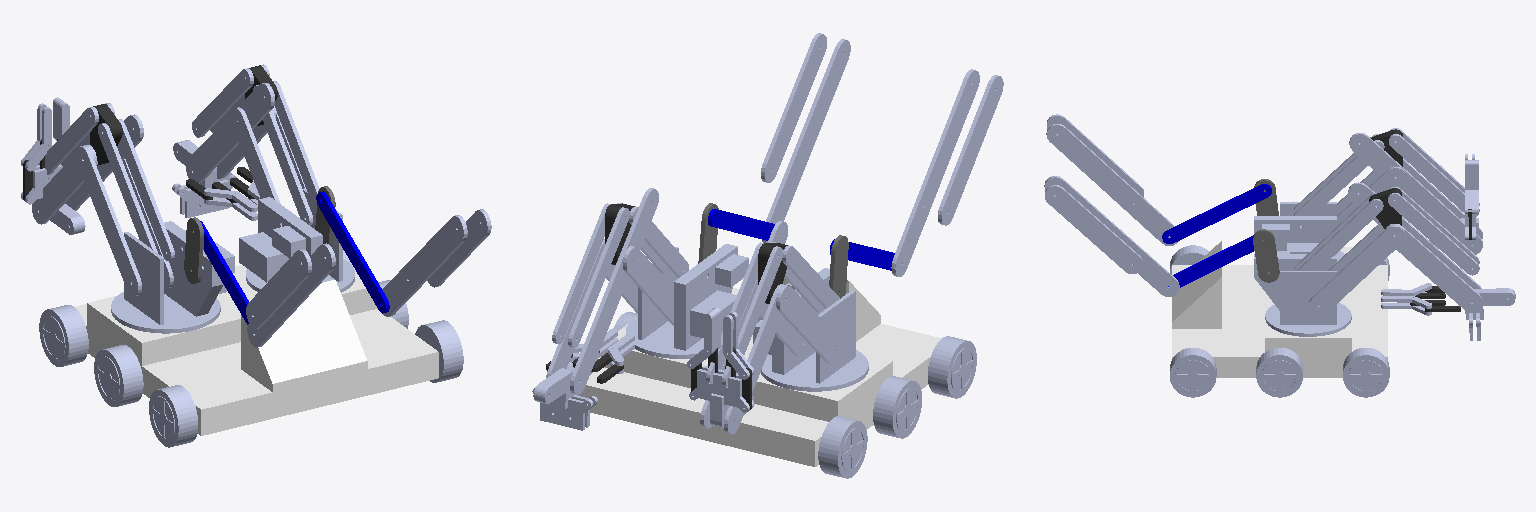
--- Render facts (derived) ---
The picture shows the robot from 3 angles, left to right: view 1: azimuth 30°, elevation 25°; view 2: azimuth 150°, elevation 25°; view 3: azimuth 270°, elevation 25°; orthographic projection.
Model little_boy with 47 links and 46 joints (28 continuous, 18 fixed), rooted at robot_body, posed all joints at 0.
Visible links, largest first — view 1: robot_body, shoulder_L, shoulder_R, ulna_R_ins1, ulna_L_ins1, humerus_support_L, ulna_R_ins2, humerus_L, humerus_support_R, ulna_L_in2, wheel_L1, wheel_L2 (+13 smaller); view 2: robot_body, shoulder_R, ulna_L_ins1, ulna_R_ins1, shoulder_L, ulna_R_ins2, ulna_support_R, humerus_L, ulna_support_L, ulna_L_in2, wheel_L3, wheel_L2 (+14 smaller); view 3: robot_body, shoulder_R, ulna_R_ins1, ulna_L_ins1, ulna_R_ins2, ulna_L_in2, humerus_R, shoulder_L, ulna_support_R, humerus_support_R, wheel_R2, wheel_R1 (+11 smaller).
Link boxes in pixels (box(x1,y1,x2,y2)): robot_body: box(75, 265, 438, 435); shoulder_L: box(111, 221, 234, 333); shoulder_R: box(239, 188, 354, 292); ulna_R_ins1: box(382, 209, 491, 316); ulna_L_ins1: box(246, 243, 335, 347); humerus_support_L: box(98, 119, 174, 260); ulna_R_ins2: box(186, 83, 275, 183); humerus_L: box(76, 146, 173, 296); humerus_support_R: box(253, 81, 319, 225); ulna_L_in2: box(32, 114, 143, 224); wheel_L1: box(39, 305, 88, 366); wheel_L2: box(94, 345, 143, 406); robot_body: box(579, 277, 941, 466); shoulder_R: box(626, 244, 748, 358); ulna_L_ins1: box(891, 69, 1003, 276); ulna_R_ins1: box(761, 33, 850, 242); shoulder_L: box(753, 268, 868, 391); ulna_R_ins2: box(546, 188, 658, 394); ulna_support_R: box(552, 203, 629, 347); humerus_L: box(760, 285, 841, 364); ulna_support_L: box(706, 242, 782, 387); ulna_L_in2: box(700, 221, 787, 434); wheel_L3: box(928, 336, 976, 398); wheel_L2: box(873, 376, 921, 438); robot_body: box(1172, 241, 1387, 377); shoulder_R: box(1254, 251, 1351, 336); ulna_R_ins1: box(1044, 176, 1179, 296); ulna_L_ins1: box(1046, 114, 1178, 245); ulna_R_ins2: box(1348, 182, 1482, 312); ulna_L_in2: box(1349, 133, 1482, 254); humerus_R: box(1309, 216, 1405, 315); shoulder_L: box(1254, 202, 1344, 261); ulna_support_R: box(1388, 187, 1479, 275); humerus_support_R: box(1294, 193, 1383, 270); wheel_R2: box(1256, 348, 1302, 397); wheel_R1: box(1343, 348, 1389, 397).
Bounding box of the posed robot: 0.362 × 0.6533 × 0.2957 m (x, y, z).
41 mesh visuals loaded from 47 distinct referenced files (41 binary STL); not drawn: 6 (reference not matched to a file when rendering).

The robot description file, URDF, robot "little_boy":
<?xml version="1.0" encoding="utf-8"?>
<!-- This URDF was automatically created by SolidWorks to URDF Exporter! Originally created by Stephen Brawner ([email redacted]) 
     Commit Version: 1.5.1-0-g916b5db  Build Version: 1.5.7152.31018
     For more information, please see http://wiki.ros.org/sw_urdf_exporter -->
<robot
  name="little_boy">
  <link
    name="robot_body">
    <inertial>
      <origin
        xyz="7.61031265785156E-18 0.0269020159399907 -6.56352555085698E-05"
        rpy="0 0 0" />
      <mass
        value="4.266" />
      <inertia
        ixx="0.0303319746647914"
        ixy="-1.25619509476993E-18"
        ixz="-5.25706915345657E-18"
        iyy="0.0584004816221285"
        iyz="-0.000455042564463211"
        izz="0.0311586930426629" />
    </inertial>
    <visual>
      <origin
        xyz="0 0 0"
        rpy="0 0 0" />
      <geometry>
        <mesh
          filename="package://little_boy/meshes/robot_body.STL" />
      </geometry>
      <material
        name="">
        <color
          rgba="1 1 1 1" />
      </material>
    </visual>
    <collision>
      <origin
        xyz="0 0 0"
        rpy="0 0 0" />
      <geometry>
        <mesh
          filename="package://little_boy/meshes/robot_body.STL" />
      </geometry>
    </collision>
  </link>
  <link
    name="shoulder_L">
    <inertial>
      <origin
        xyz="0.0176282080548916 0.0370896616143596 0.00815080609992025"
        rpy="0 0 0" />
      <mass
        value="0.283423667764616" />
      <inertia
        ixx="0.000265257278790206"
        ixy="3.50902367562715E-22"
        ixz="7.10003077447817E-09"
        iyy="0.000259412903702561"
        iyz="-1.91724092848441E-06"
        izz="0.000144352415869328" />
    </inertial>
    <visual>
      <origin
        xyz="0 0 0"
        rpy="0 0 0" />
      <geometry>
        <mesh
          filename="package://little_boy/meshes/shoulder_L.STL" />
      </geometry>
      <material
        name="">
        <color
          rgba="0.792156862745098 0.819607843137255 0.933333333333333 1" />
      </material>
    </visual>
    <collision>
      <origin
        xyz="0 0 0"
        rpy="0 0 0" />
      <geometry>
        <mesh
          filename="package://little_boy/meshes/shoulder_L.STL" />
      </geometry>
    </collision>
  </link>
  <joint
    name="shoulder_L_joint"
    type="continuous">
    <origin
      xyz="-0.085 0.04 0.06"
      rpy="1.5708 0 0" />
    <parent
      link="robot_body" />
    <child
      link="shoulder_L" />
    <axis
      xyz="0 1 0" />
  </joint>
  <link
    name="servo_shaft_L">
    <inertial>
      <origin
        xyz="0.025 1.04083408558608E-17 0.0025"
        rpy="0 0 0" />
      <mass
        value="0.0141430516117518" />
      <inertia
        ixx="1.01149544349088E-06"
        ixy="1.21760986167806E-21"
        ixz="3.02593885271888E-23"
        iyy="6.54527770083573E-06"
        iyz="4.35148745555937E-24"
        izz="7.49784376261098E-06" />
    </inertial>
    <visual>
      <origin
        xyz="0 0 0"
        rpy="0 0 0" />
      <geometry>
        <mesh
          filename="package://little_boy/meshes/servo_shaft_L.STL" />
      </geometry>
      <material
        name="">
        <color
          rgba="0.501960784313725 0.501960784313725 0.501960784313725 1" />
      </material>
    </visual>
    <collision>
      <origin
        xyz="0 0 0"
        rpy="0 0 0" />
      <geometry>
        <mesh
          filename="package://little_boy/meshes/servo_shaft_L.STL" />
      </geometry>
    </collision>
  </link>
  <joint
    name="ulna_servo_L"
    type="continuous">
    <origin
      xyz="0 0.07 0.055"
      rpy="1.5708 -0.11279 1.5708" />
    <parent
      link="shoulder_L" />
    <child
      link="servo_shaft_L" />
    <axis
      xyz="0 0 1" />
  </joint>
  <link
    name="triceps_L">
    <inertial>
      <origin
        xyz="0.00250000000000003 -5.55111512312578E-17 -0.0749999999999999"
        rpy="0 0 0" />
      <mass
        value="0.0163744467859455" />
      <inertia
        ixx="3.74341893949682E-05"
        ixy="5.07554232829905E-23"
        ixz="7.70773795544969E-24"
        iyy="3.692933971376E-05"
        iyz="-5.87629107157671E-21"
        izz="5.73076542816349E-07" />
    </inertial>
    <visual>
      <origin
        xyz="0 0 0"
        rpy="0 0 0" />
      <geometry>
        <mesh
          filename="package://little_boy/meshes/triceps_L.STL" />
      </geometry>
      <material
        name="">
        <color
          rgba="0 0 1 1" />
      </material>
    </visual>
    <collision>
      <origin
        xyz="0 0 0"
        rpy="0 0 0" />
      <geometry>
        <mesh
          filename="package://little_boy/meshes/triceps_L.STL" />
      </geometry>
    </collision>
  </link>
  <joint
    name="triceps_shaft_joint_L"
    type="continuous">
    <origin
      xyz="0.05 0 0.005"
      rpy="1.9502 -1.5708 0" />
    <parent
      link="servo_shaft_L" />
    <child
      link="triceps_L" />
    <axis
      xyz="1 0 0" />
  </joint>
  <link
    name="ulna_L_ins1">
    <inertial>
      <origin
        xyz="0.0545874765333507 0 0.014984129598169"
        rpy="0 0 0" />
      <mass
        value="0.0623918688838127" />
      <inertia
        ixx="4.68999147843949E-06"
        ixy="-2.17899225681169E-19"
        ixz="1.11324606142716E-21"
        iyy="0.000245475802534651"
        iyz="-3.24842515473838E-22"
        izz="0.000249905827892741" />
    </inertial>
    <visual>
      <origin
        xyz="0 0 0"
        rpy="0 0 0" />
      <geometry>
        <mesh
          filename="package://little_boy/meshes/ulna_L_ins1.STL" />
      </geometry>
      <material
        name="">
        <color
          rgba="0.792156862745098 0.819607843137255 0.933333333333333 1" />
      </material>
    </visual>
    <collision>
      <origin
        xyz="0 0 0"
        rpy="0 0 0" />
      <geometry>
        <mesh
          filename="package://little_boy/meshes/ulna_L_ins1.STL" />
      </geometry>
    </collision>
  </link>
  <joint
    name="ulna_triceps_joint_L"
    type="fixed">
    <origin
      xyz="0 -0.067012 -0.17023"
      rpy="1.5708 0.29323 -1.5708" />
    <parent
      link="triceps_L" />
    <child
      link="ulna_L_ins1" />
    <axis
      xyz="0 0 0" />
  </joint>
  <link
    name="humerus_L">
    <inertial>
      <origin
        xyz="-0.075 3.46944695195361E-17 0.0124999999999997"
        rpy="0 0 0" />
      <mass
        value="0.0519272118011655" />
      <inertia
        ixx="3.88070998990835E-06"
        ixy="8.19504376468536E-20"
        ixz="-8.02144397407362E-21"
        iyy="0.000130596276371464"
        iyz="-9.7780692694582E-24"
        izz="0.000134260622978868" />
    </inertial>
    <visual>
      <origin
        xyz="0 0 0"
        rpy="0 0 0" />
      <geometry>
        <mesh
          filename="package://little_boy/meshes/humerus_L.STL" />
      </geometry>
      <material
        name="">
        <color
          rgba="0.792156862745098 0.819607843137255 0.933333333333333 1" />
      </material>
    </visual>
    <collision>
      <origin
        xyz="0 0 0"
        rpy="0 0 0" />
      <geometry>
        <mesh
          filename="package://little_boy/meshes/humerus_L.STL" />
      </geometry>
    </collision>
  </link>
  <joint
    name="humerus_servo_L"
    type="continuous">
    <origin
      xyz="0 0.035 -0.015"
      rpy="1.5708 -0.7854 -1.5708" />
    <parent
      link="shoulder_L" />
    <child
      link="humerus_L" />
    <axis
      xyz="0 0 1" />
  </joint>
  <link
    name="ulna_L_in2">
    <inertial>
      <origin
        xyz="0.0545874765333507 -5.55111512312578E-17 0.0099841295981687"
        rpy="0 0 0" />
      <mass
        value="0.0623918688838127" />
      <inertia
        ixx="4.68999147843951E-06"
        ixy="-2.40980873493848E-19"
        ixz="1.11329823859271E-21"
        iyy="0.000245475802534651"
        iyz="-3.24864237572959E-22"
        izz="0.000249905827892741" />
    </inertial>
    <visual>
      <origin
        xyz="0 0 0"
        rpy="0 0 0" />
      <geometry>
        <mesh
          filename="package://little_boy/meshes/ulna_L_in2.STL" />
      </geometry>
      <material
        name="">
        <color
          rgba="0.792156862745098 0.819607843137255 0.933333333333333 1" />
      </material>
    </visual>
    <collision>
      <origin
        xyz="0 0 0"
        rpy="0 0 0" />
      <geometry>
        <mesh
          filename="package://little_boy/meshes/ulna_L_in2.STL" />
      </geometry>
    </collision>
  </link>
  <joint
    name="ulna_humerus_joint_L"
    type="continuous">
    <origin
      xyz="-0.15 0 0"
      rpy="0 0 -1.5708" />
    <parent
      link="humerus_L" />
    <child
      link="ulna_L_in2" />
    <axis
      xyz="0 0 1" />
  </joint>
  <link
    name="wrist_L_ins1">
    <inertial>
      <origin
        xyz="0.00750000000000002 0.0120255662044686 0.0177078963677059"
        rpy="0 0 0" />
      <mass
        value="0.045714101606315" />
      <inertia
        ixx="1.44625861769414E-05"
        ixy="2.13841400464998E-22"
        ixz="1.82737513348935E-20"
        iyy="1.14249586142426E-05"
        iyz="1.96430007002868E-06"
        izz="1.69837601342722E-05" />
    </inertial>
    <visual>
      <origin
        xyz="0 0 0"
        rpy="0 0 0" />
      <geometry>
        <mesh
          filename="package://little_boy/meshes/wrist_L_ins1.STL" />
      </geometry>
      <material
        name="">
        <color
          rgba="0.792156862745098 0.819607843137255 0.933333333333333 1" />
      </material>
    </visual>
    <collision>
      <origin
        xyz="0 0 0"
        rpy="0 0 0" />
      <geometry>
        <mesh
          filename="package://little_boy/meshes/wrist_L_ins1.STL" />
      </geometry>
    </collision>
  </link>
  <joint
    name="wrist_ulna_joint_L"
    type="fixed">
    <origin
      xyz="0.15 0 0.005"
      rpy="0.7806 -1.5708 0" />
    <parent
      link="ulna_L_in2" />
    <child
      link="wrist_L_ins1" />
    <axis
      xyz="0 0 0" />
  </joint>
  <link
    name="finger_support_outer_L">
    <inertial>
      <origin
        xyz="5.55111512312578E-17 -0.0025 -0.0199999999999999"
        rpy="0 0 0" />
      <mass
        value="0.00236128315516283" />
      <inertia
        ixx="4.51879117250703E-07"
        ixy="-1.40436489335427E-24"
        ixz="7.65132373088747E-22"
        iyy="4.66072959289763E-07"
        iyz="-9.76758131757343E-22"
        izz="2.4032521852239E-08" />
    </inertial>
    <visual>
      <origin
        xyz="0 0 0"
        rpy="0 0 0" />
      <geometry>
        <mesh
          filename="package://little_boy/meshes/finger_support_outer_L.STL" />
      </geometry>
      <material
        name="">
        <color
          rgba="0.250980392156863 0.250980392156863 0.250980392156863 1" />
      </material>
    </visual>
    <collision>
      <origin
        xyz="0 0 0"
        rpy="0 0 0" />
      <geometry>
        <mesh
          filename="package://little_boy/meshes/finger_support_outer_L.STL" />
      </geometry>
    </collision>
  </link>
  <joint
    name="support_wrist_outer_joint_L"
    type="continuous">
    <origin
      xyz="0.039713 0 0.020587"
      rpy="3.1416 1.0036E-05 0" />
    <parent
      link="wrist_L_ins1" />
    <child
      link="finger_support_outer_L" />
    <axis
      xyz="0 1 0" />
  </joint>
  <link
    name="finger_outer_L_ins1">
    <inertial>
      <origin
        xyz="0.00511306770476384 0.00749999999999998 -0.00728422296123404"
        rpy="0 0 0" />
      <mass
        value="0.00771718769015706" />
      <inertia
        ixx="3.08987109886469E-06"
        ixy="-2.02659250075492E-21"
        ixz="-9.12550467897181E-07"
        iyy="3.56022426581631E-06"
        iyz="-6.70264450351718E-21"
        izz="5.02508115660616E-07" />
    </inertial>
    <visual>
      <origin
        xyz="0 0 0"
        rpy="0 0 0" />
      <geometry>
        <mesh
          filename="package://little_boy/meshes/finger_outer_L_ins1.STL" />
      </geometry>
      <material
        name="">
        <color
          rgba="0.792156862745098 0.819607843137255 0.933333333333333 1" />
      </material>
    </visual>
    <collision>
      <origin
        xyz="0 0 0"
        rpy="0 0 0" />
      <geometry>
        <mesh
          filename="package://little_boy/meshes/finger_outer_L_ins1.STL" />
      </geometry>
    </collision>
  </link>
  <joint
    name="finger_support_outer_joint_L"
    type="fixed">
    <origin
      xyz="-0.021213 -0.01 -0.061213"
      rpy="0 1.0036E-05 0" />
    <parent
      link="finger_support_outer_L" />
    <child
      link="finger_outer_L_ins1" />
    <axis
      xyz="0 0 0" />
  </joint>
  <link
    name="finger_actuator_outer_L">
    <inertial>
      <origin
        xyz="3.33066907387547E-16 -0.00250000000000003 -0.0199999999999997"
        rpy="0 0 0" />
      <mass
        value="0.00236128315516283" />
      <inertia
        ixx="4.51879117250703E-07"
        ixy="-1.24176015040469E-24"
        ixz="9.30649123494754E-22"
        iyy="4.66072959289763E-07"
        iyz="-9.74877588333492E-22"
        izz="2.4032521852239E-08" />
    </inertial>
    <visual>
      <origin
        xyz="0 0 0"
        rpy="0 0 0" />
      <geometry>
        <mesh
          filename="package://little_boy/meshes/finger_actuator_outer_L.STL" />
      </geometry>
      <material
        name="">
        <color
          rgba="0.250980392156863 0.250980392156863 0.250980392156863 1" />
      </material>
    </visual>
    <collision>
      <origin
        xyz="0 0 0"
        rpy="0 0 0" />
      <geometry>
        <mesh
          filename="package://little_boy/meshes/finger_actuator_outer_L.STL" />
      </geometry>
    </collision>
  </link>
  <joint
    name="finger_actuator_outer_servo_L"
    type="continuous">
    <origin
      xyz="0.0185 0 0.0418"
      rpy="3.1416 1.0036E-05 0" />
    <parent
      link="wrist_L_ins1" />
    <child
      link="finger_actuator_outer_L" />
    <axis
      xyz="0 1 0" />
  </joint>
  <link
    name="finger_outer_L_ins2">
    <inertial>
      <origin
        xyz="0.00511306770476233 0.00749999999999998 -0.00728422296123388"
        rpy="0 0 0" />
      <mass
        value="0.00771718769015706" />
      <inertia
        ixx="3.08987109886468E-06"
        ixy="-2.03817302933066E-21"
        ixz="-9.1255046789718E-07"
        iyy="3.56022426581631E-06"
        iyz="-6.73304339102851E-21"
        izz="5.02508115660616E-07" />
    </inertial>
    <visual>
      <origin
        xyz="0 0 0"
        rpy="0 0 0" />
      <geometry>
        <mesh
          filename="package://little_boy/meshes/finger_outer_L_ins2.STL" />
      </geometry>
      <material
        name="">
        <color
          rgba="0.792156862745098 0.819607843137255 0.933333333333333 1" />
      </material>
    </visual>
    <collision>
      <origin
        xyz="0 0 0"
        rpy="0 0 0" />
      <geometry>
        <mesh
          filename="package://little_boy/meshes/finger_outer_L_ins2.STL" />
      </geometry>
    </collision>
  </link>
  <joint
    name="finger_servo_outer_joint_L"
    type="fixed">
    <origin
      xyz="0 -0.01 -0.04"
      rpy="0 1.0036E-05 0" />
    <parent
      link="finger_actuator_outer_L" />
    <child
      link="finger_outer_L_ins2" />
    <axis
      xyz="0 0 0" />
  </joint>
  <link
    name="finger_actuator_inner_L">
    <inertial>
      <origin
        xyz="3.7470027081099E-16 0.00250000000000002 -0.0199999999999999"
        rpy="0 0 0" />
      <mass
        value="0.00236128315516283" />
      <inertia
        ixx="4.51879117250704E-07"
        ixy="-1.18581990730924E-25"
        ixz="-7.81465991394108E-24"
        iyy="4.66072959289764E-07"
        iyz="9.84215681967392E-22"
        izz="2.4032521852239E-08" />
    </inertial>
    <visual>
      <origin
        xyz="0 0 0"
        rpy="0 0 0" />
      <geometry>
        <mesh
          filename="package://little_boy/meshes/finger_actuator_inner_L.STL" />
      </geometry>
      <material
        name="">
        <color
          rgba="0.250980392156863 0.250980392156863 0.250980392156863 1" />
      </material>
    </visual>
    <collision>
      <origin
        xyz="0 0 0"
        rpy="0 0 0" />
      <geometry>
        <mesh
          filename="package://little_boy/meshes/finger_actuator_inner_L.STL" />
      </geometry>
    </collision>
  </link>
  <joint
    name="finger_actuator_inner_servo_L"
    type="continuous">
    <origin
      xyz="-0.0035 0 0.0418"
      rpy="3.1416 0 3.1416" />
    <parent
      link="wrist_L_ins1" />
    <child
      link="finger_actuator_inner_L" />
    <axis
      xyz="0 1 0" />
  </joint>
  <link
    name="finger_inner_L_ins1">
    <inertial>
      <origin
        xyz="0.00511306770476561 0.00750000000000003 -0.00728422296123432"
        rpy="0 0 0" />
      <mass
        value="0.00771718769015707" />
      <inertia
        ixx="3.08987109886468E-06"
        ixy="2.0216294170796E-21"
        ixz="-9.12550467897193E-07"
        iyy="3.56022426581631E-06"
        iyz="6.8124527298336E-21"
        izz="5.02508115660625E-07" />
    </inertial>
    <visual>
      <origin
        xyz="0 0 0"
        rpy="0 0 0" />
      <geometry>
        <mesh
          filename="package://little_boy/meshes/finger_inner_L_ins1.STL" />
      </geometry>
      <material
        name="">
        <color
          rgba="0.792156862745098 0.819607843137255 0.933333333333333 1" />
      </material>
    </visual>
    <collision>
      <origin
        xyz="0 0 0"
        rpy="0 0 0" />
      <geometry>
        <mesh
          filename="package://little_boy/meshes/finger_inner_L_ins1.STL" />
      </geometry>
    </collision>
  </link>
  <joint
    name="finger_servo_inner_joint_L"
    type="fixed">
    <origin
      xyz="0 -0.005 -0.04"
      rpy="0 0 0" />
    <parent
      link="finger_actuator_inner_L" />
    <child
      link="finger_inner_L_ins1" />
    <axis
      xyz="0 0 0" />
  </joint>
  <link
    name="finger_support_inner_L">
    <inertial>
      <origin
        xyz="-1.68337566108789E-13 0.00249999999999984 -0.0199999999999622"
        rpy="0 0 0" />
      <mass
        value="0.00236128315516283" />
      <inertia
        ixx="4.51879117250704E-07"
        ixy="-9.74916321070811E-26"
        ixz="-1.22111604485446E-23"
        iyy="4.66072959289764E-07"
        iyz="9.84467713560279E-22"
        izz="2.4032521852239E-08" />
    </inertial>
    <visual>
      <origin
        xyz="0 0 0"
        rpy="0 0 0" />
      <geometry>
        <mesh
          filename="package://little_boy/meshes/finger_support_inner_L.STL" />
      </geometry>
      <material
        name="">
        <color
          rgba="0.250980392156863 0.250980392156863 0.250980392156863 1" />
      </material>
    </visual>
    <collision>
      <origin
        xyz="0 0 0"
        rpy="0 0 0" />
      <geometry>
        <mesh
          filename="package://little_boy/meshes/finger_support_inner_L.STL" />
      </geometry>
    </collision>
  </link>
  <joint
    name="support_wrist_inner_joint_L"
    type="continuous">
    <origin
      xyz="-0.0247132034355964 0 0.0205867965644033"
      rpy="3.14159265358979 0 3.14159265358979" />
    <parent
      link="wrist_L_ins1" />
    <child
      link="finger_support_inner_L" />
    <axis
      xyz="0 1 0" />
  </joint>
  <link
    name="finger_inner_L">
    <inertial>
      <origin
        xyz="0.00511306770463403 0.00749999999999987 -0.00728422296123454"
        rpy="0 0 0" />
      <mass
        value="0.00771718769015706" />
      <inertia
        ixx="3.08987109886467E-06"
        ixy="2.05223509974406E-21"
        ixz="-9.12550467897202E-07"
        iyy="3.56022426581631E-06"
        iyz="6.81265952498674E-21"
        izz="5.02508115660632E-07" />
    </inertial>
    <visual>
      <origin
        xyz="0 0 0"
        rpy="0 0 0" />
      <geometry>
        <mesh
          filename="package://little_boy/meshes/finger_inner_L.STL" />
      </geometry>
      <material
        name="">
        <color
          rgba="0.792156862745098 0.819607843137255 0.933333333333333 1" />
      </material>
    </visual>
    <collision>
      <origin
        xyz="0 0 0"
        rpy="0 0 0" />
      <geometry>
        <mesh
          filename="package://little_boy/meshes/finger_inner_L.STL" />
      </geometry>
    </collision>
  </link>
  <joint
    name="finger_support_inner_joint_L_ins2"
    type="fixed">
    <origin
      xyz="-0.0212132034355953 -0.00499999999999985 -0.0612132034355966"
      rpy="0 0 0" />
    <parent
      link="finger_support_inner_L" />
    <child
      link="finger_inner_L" />
    <axis
      xyz="0 0 0" />
  </joint>
  <link
    name="elbow_L_ins1">
    <inertial>
      <origin
        xyz="0.152162677124301 0.230059087454614 -0.0974999999999999"
        rpy="0 0 0" />
      <mass
        value="0.0427619510241515" />
      <inertia
        ixx="1.36758061050991E-05"
        ixy="1.99613319993036E-06"
        ixz="-6.44024318031822E-22"
        iyy="6.30957779977599E-06"
        iyz="-4.53939815737194E-23"
        izz="1.83818107414694E-05" />
    </inertial>
    <visual>
      <origin
        xyz="0 0 0"
        rpy="0 0 0" />
      <geometry>
        <mesh
          filename="package://little_boy/meshes/elbow_L_ins1.STL" />
      </geometry>
      <material
        name="">
        <color
          rgba="0.250980392156863 0.250980392156863 0.250980392156863 1" />
      </material>
    </visual>
    <collision>
      <origin
        xyz="0 0 0"
        rpy="0 0 0" />
      <geometry>
        <mesh
          filename="package://little_boy/meshes/elbow_L_ins1.STL" />
      </geometry>
    </collision>
  </link>
  <joint
    name="elbow_humerus_joint_L"
    type="fixed">
    <origin
      xyz="0.106066017177982 -0.0282842712474625 -0.085"
      rpy="3.14159265358979 0 -2.35139744838984" />
    <parent
      link="humerus_L" />
    <child
      link="elbow_L_ins1" />
    <axis
      xyz="0 0 0" />
  </joint>
  <link
    name="ulna_support_L">
    <inertial>
      <origin
        xyz="-0.0750000000000707 2.80331313717852E-14 0.0124999999999988"
        rpy="0 0 0" />
      <mass
        value="0.0330002209841783" />
      <inertia
        ixx="1.14721075515941E-06"
        ixy="8.173867941004E-20"
        ixz="-1.64349907938118E-21"
        iyy="7.52734537911621E-05"
        iyz="-7.10267285501199E-23"
        izz="7.62831636255541E-05" />
    </inertial>
    <visual>
      <origin
        xyz="0 0 0"
        rpy="0 0 0" />
      <geometry>
        <mesh
          filename="package://little_boy/meshes/ulna_support_L.STL" />
      </geometry>
      <material
        name="">
        <color
          rgba="0.792156862745098 0.819607843137255 0.933333333333333 1" />
      </material>
    </visual>
    <collision>
      <origin
        xyz="0 0 0"
        rpy="0 0 0" />
      <geometry>
        <mesh
          filename="package://little_boy/meshes/ulna_support_L.STL" />
      </geometry>
    </collision>
  </link>
  <joint
    name="ulna_sup_elbow_joint_L"
    type="continuous">
    <origin
      xyz="0.160099645597075 0.251836341210115 -0.0849999999999999"
      rpy="3.14159265358979 0 2.36099153199484" />
    <parent
      link="elbow_L_ins1" />
    <child
      link="ulna_support_L" />
    <axis
      xyz="0 0 1" />
  </joint>
  <link
    name="wrist_L_ins2">
    <inertial>
      <origin
        xyz="0.0074999999999897 0.0120255662043827 0.0177078963676536"
        rpy="0 0 0" />
      <mass
        value="0.045714101606315" />
      <inertia
        ixx="1.44625861769414E-05"
        ixy="1.96557219476226E-22"
        ixz="1.80532018603015E-20"
        iyy="1.14249586142426E-05"
        iyz="1.96430007002868E-06"
        izz="1.69837601342722E-05" />
    </inertial>
    <visual>
      <origin
        xyz="0 0 0"
        rpy="0 0 0" />
      <geometry>
        <mesh
          filename="package://little_boy/meshes/wrist_L_ins2.STL" />
      </geometry>
      <material
        name="">
        <color
          rgba="0.792156862745098 0.819607843137255 0.933333333333333 1" />
      </material>
    </visual>
    <collision>
      <origin
        xyz="0 0 0"
        rpy="0 0 0" />
      <geometry>
        <mesh
          filename="package://little_boy/meshes/wrist_L_ins2.STL" />
      </geometry>
    </collision>
  </link>
  <joint
    name="wrist_support_joint_L"
    type="fixed">
    <origin
      xyz="-0.185185331879527 -0.0355245326574139 0.00500000000000012"
      rpy="2.36099153199484 -1.5707963267949 0" />
    <parent
      link="ulna_support_L" />
    <child
      link="wrist_L_ins2" />
    <axis
      xyz="0 0 0" />
  </joint>
  <link
    name="humerus_support_L">
    <inertial>
      <origin
        xyz="-0.0749999999999872 -1.04652397858729E-13 0.0124999999999868"
        rpy="0 0 0" />
      <mass
        value="0.0330002209841783" />
      <inertia
        ixx="1.14721075515939E-06"
        ixy="-1.161019590472E-16"
        ixz="-1.63201420245891E-17"
        iyy="7.52734537911621E-05"
        iyz="-2.21540650299699E-19"
        izz="7.62831636255541E-05" />
    </inertial>
    <visual>
      <origin
        xyz="0 0 0"
        rpy="0 0 0" />
      <geometry>
        <mesh
          filename="package://little_boy/meshes/humerus_support_L.STL" />
      </geometry>
      <material
        name="">
        <color
          rgba="0.792156862745098 0.819607843137255 0.933333333333333 1" />
      </material>
    </visual>
    <collision>
      <origin
        xyz="0 0 0"
        rpy="0 0 0" />
      <geometry>
        <mesh
          filename="package://little_boy/meshes/humerus_support_L.STL" />
      </geometry>
    </collision>
  </link>
  <joint
    name="humerus_support_joint_L"
    type="continuous">
    <origin
      xyz="0 0.075 0.00999999999997808"
      rpy="1.5707963267949 -0.779717685636845 -1.5707963267949" />
    <parent
      link="shoulder_L" />
    <child
      link="humerus_support_L" />
    <axis
      xyz="0 0 1" />
  </joint>
  <link
    name="elbow_L_ins2">
    <inertial>
      <origin
        xyz="-0.00793696847271147 0.028222746244398 0.00749999999998187"
        rpy="0 0 0" />
      <mass
        value="0.0427619510241515" />
      <inertia
        ixx="1.36758061050991E-05"
        ixy="1.99613319993036E-06"
        ixz="-1.44508705555333E-22"
        iyy="6.30957779977599E-06"
        iyz="-1.42028475409537E-22"
        izz="1.83818107414694E-05" />
    </inertial>
    <visual>
      <origin
        xyz="0 0 0"
        rpy="0 0 0" />
      <geometry>
        <mesh
          filename="package://little_boy/meshes/elbow_L_ins2.STL" />
      </geometry>
      <material
        name="">
        <color
          rgba="0.250980392156863 0.250980392156863 0.250980392156863 1" />
      </material>
    </visual>
    <collision>
      <origin
        xyz="0 0 0"
        rpy="0 0 0" />
      <geometry>
        <mesh
          filename="package://little_boy/meshes/elbow_L_ins2.STL" />
      </geometry>
    </collision>
  </link>
  <joint
    name="elbow_hum_sup_joint_L"
    type="fixed">
    <origin
      xyz="-0.139130064948853 -0.0467530160736474 0.0200000000000002"
      rpy="3.14159265358979 0 -2.34571697062923" />
    <parent
      link="humerus_support_L" />
    <child
      link="elbow_L_ins2" />
    <axis
      xyz="0 0 0" />
  </joint>
  <link
    name="shoulder_R">
    <inertial>
      <origin
        xyz="-0.0176282080548988 0.0370896616143597 0.00815080609990503"
        rpy="0 0 0" />
      <mass
        value="0.283423667764616" />
      <inertia
        ixx="0.000265257278790206"
        ixy="-1.267476044249E-21"
        ixz="-7.10003077447473E-09"
        iyy="0.000259412903702561"
        iyz="-1.91724092848443E-06"
        izz="0.000144352415869328" />
    </inertial>
    <visual>
      <origin
        xyz="0 0 0"
        rpy="0 0 0" />
      <geometry>
        <mesh
          filename="package://little_boy/meshes/shoulder_R.STL" />
      </geometry>
      <material
        name="">
        <color
          rgba="0.792156862745098 0.819607843137255 0.933333333333333 1" />
      </material>
    </visual>
    <collision>
      <origin
        xyz="0 0 0"
        rpy="0 0 0" />
      <geometry>
        <mesh
          filename="package://little_boy/meshes/shoulder_R.STL" />
      </geometry>
    </collision>
  </link>
  <joint
    name="shoulder_R_joint"
    type="continuous">
    <origin
      xyz="0.085 0.04 0.06"
      rpy="1.5708 0 0" />
    <parent
      link="robot_body" />
    <child
      link="shoulder_R" />
    <axis
      xyz="0 1 0" />
  </joint>
  <link
    name="servo_shaft_R">
    <inertial>
      <origin
        xyz="0.0250000000000018 -2.18575157973078E-14 -0.00250000000003446"
        rpy="0 0 0" />
      <mass
        value="0.0141430516117517" />
      <inertia
        ixx="1.01149544349088E-06"
        ixy="7.80071022306908E-18"
        ixz="6.14686865733588E-19"
        iyy="6.54527770083571E-06"
        iyz="6.33456407456332E-19"
        izz="7.49784376261096E-06" />
    </inertial>
    <visual>
      <origin
        xyz="0 0 0"
        rpy="0 0 0" />
      <geometry>
        <mesh
          filename="package://little_boy/meshes/servo_shaft_R.STL" />
      </geometry>
      <material
        name="">
        <color
          rgba="0.501960784313725 0.501960784313725 0.501960784313725 1" />
      </material>
    </visual>
    <collision>
      <origin
        xyz="0 0 0"
        rpy="0 0 0" />
      <geometry>
        <mesh
          filename="package://little_boy/meshes/servo_shaft_R.STL" />
      </geometry>
    </collision>
  </link>
  <joint
    name="ulna_servo_R"
    type="continuous">
    <origin
      xyz="0 0.0700000000000001 0.0549999999999848"
      rpy="1.57079632679475 -0.141084265240084 1.57079632679492" />
    <parent
      link="shoulder_R" />
    <child
      link="servo_shaft_R" />
    <axis
      xyz="0 0 1" />
  </joint>
  <link
    name="triceps_R">
    <inertial>
      <origin
        xyz="-0.00250000000008484 -2.73947531326257E-14 -0.07500000000006"
        rpy="0 0 0" />
      <mass
        value="0.0163744467859455" />
      <inertia
        ixx="3.74341893949682E-05"
        ixy="3.53802133580793E-22"
        ixz="3.58748204167413E-20"
        iyy="3.692933971376E-05"
        iyz="7.09390093325477E-21"
        izz="5.73076542816348E-07" />
    </inertial>
    <visual>
      <origin
        xyz="0 0 0"
        rpy="0 0 0" />
      <geometry>
        <mesh
          filename="package://little_boy/meshes/triceps_R.STL" />
      </geometry>
      <material
        name="">
        <color
          rgba="0 0 1 1" />
      </material>
    </visual>
    <collision>
      <origin
        xyz="0 0 0"
        rpy="0 0 0" />
      <geometry>
        <mesh
          filename="package://little_boy/meshes/triceps_R.STL" />
      </geometry>
    </collision>
  </link>
  <joint
    name="triceps_shaft_joint_R"
    type="continuous">
    <origin
      xyz="0.0500000000000016 0 -0.00499999999991747"
      rpy="1.9282665829622 -1.5707963267949 0" />
    <parent
      link="servo_shaft_R" />
    <child
      link="triceps_R" />
    <axis
      xyz="1 0 0" />
  </joint>
  <link
    name="ulna_R_ins1">
    <inertial>
      <origin
        xyz="0.0545874765331937 -2.08721928629529E-14 0.0149841295982093"
        rpy="0 0 0" />
      <mass
        value="0.0623918688838127" />
      <inertia
        ixx="4.68999147843955E-06"
        ixy="-2.13875819181711E-20"
        ixz="-1.44181539226308E-16"
        iyy="0.000245475802534651"
        iyz="-2.54155024407015E-18"
        izz="0.000249905827892741" />
    </inertial>
    <visual>
      <origin
        xyz="0 0 0"
        rpy="0 0 0" />
      <geometry>
        <mesh
          filename="package://little_boy/meshes/ulna_R_ins1.STL" />
      </geometry>
      <material
        name="">
        <color
          rgba="0.792156862745098 0.819607843137255 0.933333333333333 1" />
      </material>
    </visual>
    <collision>
      <origin
        xyz="0 0 0"
        rpy="0 0 0" />
      <geometry>
        <mesh
          filename="package://little_boy/meshes/ulna_R_ins1.STL" />
      </geometry>
    </collision>
  </link>
  <joint
    name="ulna_triceps_joint_R"
    type="fixed">
    <origin
      xyz="0 -0.0668990936204693 -0.170603671341298"
      rpy="-1.5707963267949 0.298762929258244 -1.5707963267949" />
    <parent
      link="triceps_R" />
    <child
      link="ulna_R_ins1" />
    <axis
      xyz="0 0 0" />
  </joint>
  <link
    name="humerus_R">
    <inertial>
      <origin
        xyz="-0.0749999999999872 5.72528136011385E-14 -0.0124999999999835"
        rpy="0 0 0" />
      <mass
        value="0.0519272118011655" />
      <inertia
        ixx="3.88070998990834E-06"
        ixy="-3.07049443379684E-20"
        ixz="-8.537810573724E-20"
        iyy="0.000130596276371464"
        iyz="1.6891448454477E-21"
        izz="0.000134260622978868" />
    </inertial>
    <visual>
      <origin
        xyz="0 0 0"
        rpy="0 0 0" />
      <geometry>
        <mesh
          filename="package://little_boy/meshes/humerus_R.STL" />
      </geometry>
      <material
        name="">
        <color
          rgba="0.792156862745098 0.819607843137255 0.933333333333333 1" />
      </material>
    </visual>
    <collision>
      <origin
        xyz="0 0 0"
        rpy="0 0 0" />
      <geometry>
        <mesh
          filename="package://little_boy/meshes/humerus_R.STL" />
      </geometry>
    </collision>
  </link>
  <joint
    name="humerus_servo_R"
    type="continuous">
    <origin
      xyz="0 0.035 -0.0150000000000051"
      rpy="1.5707963267949 -0.773478876126175 -1.5707963267949" />
    <parent
      link="shoulder_R" />
    <child
      link="humerus_R" />
    <axis
      xyz="0 0 1" />
  </joint>
  <link
    name="ulna_R_ins2">
    <inertial>
      <origin
        xyz="0.0545874765334259 9.43689570931383E-15 0.00998412959815034"
        rpy="0 0 0" />
      <mass
        value="0.0623918688838126" />
      <inertia
        ixx="4.68999147843955E-06"
        ixy="-9.10560418298373E-20"
        ixz="1.14239461627597E-19"
        iyy="0.00024547580253465"
        iyz="-2.31260688029601E-21"
        izz="0.000249905827892741" />
    </inertial>
    <visual>
      <origin
        xyz="0 0 0"
        rpy="0 0 0" />
      <geometry>
        <mesh
          filename="package://little_boy/meshes/ulna_R_ins2.STL" />
      </geometry>
      <material
        name="">
        <color
          rgba="0.792156862745098 0.819607843137255 0.933333333333333 1" />
      </material>
    </visual>
    <collision>
      <origin
        xyz="0 0 0"
        rpy="0 0 0" />
      <geometry>
        <mesh
          filename="package://little_boy/meshes/ulna_R_ins2.STL" />
      </geometry>
    </collision>
  </link>
  <joint
    name="ulna_radius_joint_R"
    type="continuous">
    <origin
      xyz="-0.149999999999987 0 0"
      rpy="3.14159265358979 0 -1.57079632679331" />
    <parent
      link="humerus_R" />
    <child
      link="ulna_R_ins2" />
    <axis
      xyz="0 0 1" />
  </joint>
  <link
    name="wrist_R_ins1">
    <inertial>
      <origin
        xyz="0.00749999999998541 0.0120255662044434 0.0177078963677191"
        rpy="0 0 0" />
      <mass
        value="0.045714101606315" />
      <inertia
        ixx="1.44625861769414E-05"
        ixy="-9.87583266445722E-20"
        ixz="-1.13212182698845E-19"
        iyy="1.14249586142378E-05"
        iyz="1.96430007002185E-06"
        izz="1.69837601342771E-05" />
    </inertial>
    <visual>
      <origin
        xyz="0 0 0"
        rpy="0 0 0" />
      <geometry>
        <mesh
          filename="package://little_boy/meshes/wrist_R_ins1.STL" />
      </geometry>
      <material
        name="">
        <color
          rgba="0.792156862745098 0.819607843137255 0.933333333333333 1" />
      </material>
    </visual>
    <collision>
      <origin
        xyz="0 0 0"
        rpy="0 0 0" />
      <geometry>
        <mesh
          filename="package://little_boy/meshes/wrist_R_ins1.STL" />
      </geometry>
    </collision>
  </link>
  <joint
    name="wrist_ulna_joint_R"
    type="fixed">
    <origin
      xyz="0.150000000000075 0 0.0199999999999812"
      rpy="0.768899666553566 1.5707963267949 0" />
    <parent
      link="ulna_R_ins2" />
    <child
      link="wrist_R_ins1" />
    <axis
      xyz="0 0 0" />
  </joint>
  <link
    name="elbow_R_ins1">
    <inertial>
      <origin
        xyz="-0.00793696847273295 0.0282227462444685 0.00749999999999999"
        rpy="0 0 0" />
      <mass
        value="0.0427619510241515" />
      <inertia
        ixx="1.36758061050991E-05"
        ixy="1.99613319993036E-06"
        ixz="6.91404410403191E-23"
        iyy="6.30957779977599E-06"
        iyz="4.40841903186475E-22"
        izz="1.83818107414694E-05" />
    </inertial>
    <visual>
      <origin
        xyz="0 0 0"
        rpy="0 0 0" />
      <geometry>
        <mesh
          filename="package://little_boy/meshes/elbow_R_ins1.STL" />
      </geometry>
      <material
        name="">
        <color
          rgba="0.250980392156863 0.250980392156863 0.250980392156863 1" />
      </material>
    </visual>
    <collision>
      <origin
        xyz="0 0 0"
        rpy="0 0 0" />
      <geometry>
        <mesh
          filename="package://little_boy/meshes/elbow_R_ins1.STL" />
      </geometry>
    </collision>
  </link>
  <joint
    name="elbow_humerus_joint_R"
    type="fixed">
    <origin
      xyz="-0.149999999999993 0 -0.00499999999998156"
      rpy="-3.14159265358979 0 -2.33969599334564" />
    <parent
      link="humerus_R" />
    <child
      link="elbow_R_ins1" />
    <axis
      xyz="0 0 0" />
  </joint>
  <link
    name="ulna_support_R">
    <inertial>
      <origin
        xyz="-0.0749999999999709 -1.66533453693773E-15 -0.00749999999999999"
        rpy="0 0 0" />
      <mass
        value="0.0330002209841782" />
      <inertia
        ixx="1.1472107551594E-06"
        ixy="-3.39871970085788E-20"
        ixz="-3.47757574650741E-22"
        iyy="7.52734537911621E-05"
        iyz="3.61260041724105E-23"
        izz="7.62831636255541E-05" />
    </inertial>
    <visual>
      <origin
        xyz="0 0 0"
        rpy="0 0 0" />
      <geometry>
        <mesh
          filename="package://little_boy/meshes/ulna_support_R.STL" />
      </geometry>
      <material
        name="">
        <color
          rgba="0.792156862745098 0.819607843137255 0.933333333333333 1" />
      </material>
    </visual>
    <collision>
      <origin
        xyz="0 0 0"
        rpy="0 0 0" />
      <geometry>
        <mesh
          filename="package://little_boy/meshes/ulna_support_R.STL" />
      </geometry>
    </collision>
  </link>
  <joint
    name="ulna_sup_elbow_joint_R"
    type="continuous">
    <origin
      xyz="0 0.0499999999999692 0"
      rpy="3.14159265358979 0 2.37269298703746" />
    <parent
      link="elbow_R_ins1" />
    <child
      link="ulna_support_R" />
    <axis
      xyz="0 0 1" />
  </joint>
  <link
    name="wrist_R_ins2">
    <inertial>
      <origin
        xyz="0.00749999999998563 0.0120255662044601 0.0177078963677132"
        rpy="0 0 0" />
      <mass
        value="0.045714101606315" />
      <inertia
        ixx="1.44625861769414E-05"
        ixy="-9.94607724273979E-20"
        ixz="-1.13654759919855E-19"
        iyy="1.14249586142378E-05"
        iyz="1.96430007002185E-06"
        izz="1.69837601342771E-05" />
    </inertial>
    <visual>
      <origin
        xyz="0 0 0"
        rpy="0 0 0" />
      <geometry>
        <mesh
          filename="package://little_boy/meshes/wrist_R_ins2.STL" />
      </geometry>
      <material
        name="">
        <color
          rgba="0.792156862745098 0.819607843137255 0.933333333333333 1" />
      </material>
    </visual>
    <collision>
      <origin
        xyz="0 0 0"
        rpy="0 0 0" />
      <geometry>
        <mesh
          filename="package://little_boy/meshes/wrist_R_ins2.STL" />
      </geometry>
    </collision>
  </link>
  <joint
    name="wrist_support_joint_R"
    type="fixed">
    <origin
      xyz="-0.184767243812373 -0.0359338107872165 -0.015"
      rpy="2.37269298703623 -1.5707963267949 0" />
    <parent
      link="ulna_support_R" />
    <child
      link="wrist_R_ins2" />
    <axis
      xyz="0 0 0" />
  </joint>
  <link
    name="finger_support_outer_R">
    <inertial>
      <origin
        xyz="9.980627435624E-13 0.00250000000001652 -0.0200000000000256"
        rpy="0 0 0" />
      <mass
        value="0.00236128315516283" />
      <inertia
        ixx="4.51879117250703E-07"
        ixy="-8.07177229464862E-24"
        ixz="2.29581824942999E-17"
        iyy="4.66072959289763E-07"
        iyz="-4.29015932230921E-22"
        izz="2.4032521852239E-08" />
    </inertial>
    <visual>
      <origin
        xyz="0 0 0"
        rpy="0 0 0" />
      <geometry>
        <mesh
          filename="package://little_boy/meshes/finger_support_outer_R.STL" />
      </geometry>
      <material
        name="">
        <color
          rgba="0.250980392156863 0.250980392156863 0.250980392156863 1" />
      </material>
    </visual>
    <collision>
      <origin
        xyz="0 0 0"
        rpy="0 0 0" />
      <geometry>
        <mesh
          filename="package://little_boy/meshes/finger_support_outer_R.STL" />
      </geometry>
    </collision>
  </link>
  <joint
    name="support_wrist_outer_joint_R"
    type="continuous">
    <origin
      xyz="-0.0247132034356111 0 0.0205867965643947"
      rpy="3.14159265358857 0 3.14159265358979" />
    <parent
      link="wrist_R_ins2" />
    <child
      link="finger_support_outer_R" />
    <axis
      xyz="0 1 0" />
  </joint>
  <link
    name="finger_outer_R_ins1">
    <inertial>
      <origin
        xyz="0.00511306770479379 0.00749999999999479 -0.00728422296123532"
        rpy="0 0 0" />
      <mass
        value="0.00771718769015705" />
      <inertia
        ixx="3.08987109886483E-06"
        ixy="4.02506086068303E-21"
        ixz="-9.12550467896952E-07"
        iyy="3.5602242658163E-06"
        iyz="1.33951560445306E-20"
        izz="5.02508115660456E-07" />
    </inertial>
    <visual>
      <origin
        xyz="0 0 0"
        rpy="0 0 0" />
      <geometry>
        <mesh
          filename="package://little_boy/meshes/finger_outer_R_ins1.STL" />
      </geometry>
      <material
        name="">
        <color
          rgba="0.792156862745098 0.819607843137255 0.933333333333333 1" />
      </material>
    </visual>
    <collision>
      <origin
        xyz="0 0 0"
        rpy="0 0 0" />
      <geometry>
        <mesh
          filename="package://little_boy/meshes/finger_outer_R_ins1.STL" />
      </geometry>
    </collision>
  </link>
  <joint
    name="finger_support_outer_joint_R"
    type="fixed">
    <origin
      xyz="-0.0212132034335569 -0.00499999999998535 -0.0612132034355903"
      rpy="0 0 0" />
    <parent
      link="finger_support_outer_R" />
    <child
      link="finger_outer_R_ins1" />
    <axis
      xyz="0 0 0" />
  </joint>
  <link
    name="finger_actuator_outer_R">
    <inertial>
      <origin
        xyz="8.39744940250853E-13 0.00250000000000213 -0.0200000000000474"
        rpy="0 0 0" />
      <mass
        value="0.00236128315516283" />
      <inertia
        ixx="4.51879117250703E-07"
        ixy="3.63744754064476E-24"
        ixz="2.10228589933193E-17"
        iyy="4.66072959289764E-07"
        iyz="4.43711312800808E-22"
        izz="2.4032521852239E-08" />
    </inertial>
    <visual>
      <origin
        xyz="0 0 0"
        rpy="0 0 0" />
      <geometry>
        <mesh
          filename="package://little_boy/meshes/finger_actuator_outer_R.STL" />
      </geometry>
      <material
        name="">
        <color
          rgba="0.250980392156863 0.250980392156863 0.250980392156863 1" />
      </material>
    </visual>
    <collision>
      <origin
        xyz="0 0 0"
        rpy="0 0 0" />
      <geometry>
        <mesh
          filename="package://little_boy/meshes/finger_actuator_outer_R.STL" />
      </geometry>
    </collision>
  </link>
  <joint
    name="finger_actuator_outer_servo_R"
    type="continuous">
    <origin
      xyz="-0.00350000000001802 0 0.0417999999999918"
      rpy="3.14159265358857 0 3.14159265358979" />
    <parent
      link="wrist_R_ins2" />
    <child
      link="finger_actuator_outer_R" />
    <axis
      xyz="0 1 0" />
  </joint>
  <link
    name="finger_outer_R_ins2">
    <inertial>
      <origin
        xyz="0.00511306770468926 0.00749999999995189 -0.00728422296121817"
        rpy="0 0 0" />
      <mass
        value="0.00771718769015707" />
      <inertia
        ixx="3.08987109886547E-06"
        ixy="1.02404959834065E-21"
        ixz="-9.12550467896065E-07"
        iyy="3.56022426581631E-06"
        iyz="3.39702398060215E-21"
        izz="5.02508115659831E-07" />
    </inertial>
    <visual>
      <origin
        xyz="0 0 0"
        rpy="0 0 0" />
      <geometry>
        <mesh
          filename="package://little_boy/meshes/finger_outer_R_ins2.STL" />
      </geometry>
      <material
        name="">
        <color
          rgba="0.792156862745098 0.819607843137255 0.933333333333333 1" />
      </material>
    </visual>
    <collision>
      <origin
        xyz="0 0 0"
        rpy="0 0 0" />
      <geometry>
        <mesh
          filename="package://little_boy/meshes/finger_outer_R_ins2.STL" />
      </geometry>
    </collision>
  </link>
  <joint
    name="finger_servo_outer_joint_R"
    type="fixed">
    <origin
      xyz="0 -0.00499999999998504 -0.0399999999999931"
      rpy="0 0 0" />
    <parent
      link="finger_actuator_outer_R" />
    <child
      link="finger_outer_R_ins2" />
    <axis
      xyz="0 0 0" />
  </joint>
  <link
    name="finger_actuator_inner_R">
    <inertial>
      <origin
        xyz="-1.16129328375791E-13 -0.00250000000007294 -0.0199999999999459"
        rpy="0 0 0" />
      <mass
        value="0.00236128315516283" />
      <inertia
        ixx="4.51879117250703E-07"
        ixy="-1.27677263727766E-23"
        ixz="-1.49231193777482E-18"
        iyy="4.66072959289764E-07"
        iyz="-5.24484853381758E-21"
        izz="2.40325218522389E-08" />
    </inertial>
    <visual>
      <origin
        xyz="0 0 0"
        rpy="0 0 0" />
      <geometry>
        <mesh
          filename="package://little_boy/meshes/finger_actuator_inner_R.STL" />
      </geometry>
      <material
        name="">
        <color
          rgba="0.250980392156863 0.250980392156863 0.250980392156863 1" />
      </material>
    </visual>
    <collision>
      <origin
        xyz="0 0 0"
        rpy="0 0 0" />
      <geometry>
        <mesh
          filename="package://little_boy/meshes/finger_actuator_inner_R.STL" />
      </geometry>
    </collision>
  </link>
  <joint
    name="finger_actuator_inner_servo_R"
    type="continuous">
    <origin
      xyz="0.0184999999999958 0 0.0418000000000148"
      rpy="-3.14159265358857 4.86241072589185E-05 0" />
    <parent
      link="wrist_R_ins2" />
    <child
      link="finger_actuator_inner_R" />
    <axis
      xyz="0 1 0" />
  </joint>
  <link
    name="finger_inner_R_ins1">
    <inertial>
      <origin
        xyz="0.00511306770464562 0.00750000000007299 -0.00728422296126441"
        rpy="0 0 0" />
      <mass
        value="0.00771718769015707" />
      <inertia
        ixx="3.08987109886459E-06"
        ixy="-7.81685678862611E-22"
        ixz="-9.12550467897316E-07"
        iyy="3.56022426581632E-06"
        iyz="-2.91808640593394E-21"
        izz="5.02508115660713E-07" />
    </inertial>
    <visual>
      <origin
        xyz="0 0 0"
        rpy="0 0 0" />
      <geometry>
        <mesh
          filename="package://little_boy/meshes/finger_inner_R_ins1.STL" />
      </geometry>
      <material
        name="">
        <color
          rgba="0.792156862745098 0.819607843137255 0.933333333333333 1" />
      </material>
    </visual>
    <collision>
      <origin
        xyz="0 0 0"
        rpy="0 0 0" />
      <geometry>
        <mesh
          filename="package://little_boy/meshes/finger_inner_R_ins1.STL" />
      </geometry>
    </collision>
  </link>
  <joint
    name="finger_servo_inner_joint_R"
    type="fixed">
    <origin
      xyz="0 -0.0100000000000694 -0.0399999999999913"
      rpy="0 4.86241072589185E-05 0" />
    <parent
      link="finger_actuator_inner_R" />
    <child
      link="finger_inner_R_ins1" />
    <axis
      xyz="0 0 0" />
  </joint>
  <link
    name="finger_support_inner_R">
    <inertial>
      <origin
        xyz="-1.37626021690096E-13 -0.0025 -0.0199999999999192"
        rpy="0 0 0" />
      <mass
        value="0.00236128315516282" />
      <inertia
        ixx="4.51879117250702E-07"
        ixy="1.77429963713586E-23"
        ixz="-1.66550204710658E-18"
        iyy="4.66072959289762E-07"
        iyz="-3.33559935777155E-21"
        izz="2.40325218522389E-08" />
    </inertial>
    <visual>
      <origin
        xyz="0 0 0"
        rpy="0 0 0" />
      <geometry>
        <mesh
          filename="package://little_boy/meshes/finger_support_inner_R.STL" />
      </geometry>
      <material
        name="">
        <color
          rgba="0.250980392156863 0.250980392156863 0.250980392156863 1" />
      </material>
    </visual>
    <collision>
      <origin
        xyz="0 0 0"
        rpy="0 0 0" />
      <geometry>
        <mesh
          filename="package://little_boy/meshes/finger_support_inner_R.STL" />
      </geometry>
    </collision>
  </link>
  <joint
    name="support_wrist_inner_joint_R"
    type="continuous">
    <origin
      xyz="0.0397132034355841 0 0.0205867965644406"
      rpy="-3.14159265358857 4.86240989376999E-05 0" />
    <parent
      link="wrist_R_ins2" />
    <child
      link="finger_support_inner_R" />
    <axis
      xyz="0 1 0" />
  </joint>
  <link
    name="finger_inner_R_ins2">
    <inertial>
      <origin
        xyz="0.0051130677040834 0.00750000000024807 -0.0072842229612527"
        rpy="0 0 0" />
      <mass
        value="0.00771718769015707" />
      <inertia
        ixx="3.08987109886459E-06"
        ixy="-7.82512859475164E-22"
        ixz="-9.12550467897316E-07"
        iyy="3.56022426581631E-06"
        iyz="-2.91291652710549E-21"
        izz="5.02508115660713E-07" />
    </inertial>
    <visual>
      <origin
        xyz="0 0 0"
        rpy="0 0 0" />
      <geometry>
        <mesh
          filename="package://little_boy/meshes/finger_inner_R_ins2.STL" />
      </geometry>
      <material
        name="">
        <color
          rgba="0.792156862745098 0.819607843137255 0.933333333333333 1" />
      </material>
    </visual>
    <collision>
      <origin
        xyz="0 0 0"
        rpy="0 0 0" />
      <geometry>
        <mesh
          filename="package://little_boy/meshes/finger_inner_R_ins2.STL" />
      </geometry>
    </collision>
  </link>
  <joint
    name="finger_support_inner_joint_R"
    type="fixed">
    <origin
      xyz="-0.0212142348830835 -0.0100000000000694 -0.061212171937586"
      rpy="0 4.86240989376999E-05 0" />
    <parent
      link="finger_support_inner_R" />
    <child
      link="finger_inner_R_ins2" />
    <axis
      xyz="0 0 0" />
  </joint>
  <link
    name="humerus_support_R">
    <inertial>
      <origin
        xyz="-0.0749999999999932 7.02216063075412E-15 -0.0124999999999921"
        rpy="0 0 0" />
      <mass
        value="0.0330002209841783" />
      <inertia
        ixx="1.14721075515941E-06"
        ixy="5.34160152362243E-20"
        ixz="-4.54264042068079E-20"
        iyy="7.52734537911621E-05"
        iyz="4.97507561971683E-22"
        izz="7.62831636255541E-05" />
    </inertial>
    <visual>
      <origin
        xyz="0 0 0"
        rpy="0 0 0" />
      <geometry>
        <mesh
          filename="package://little_boy/meshes/humerus_support_R.STL" />
      </geometry>
      <material
        name="">
        <color
          rgba="0.792156862745098 0.819607843137255 0.933333333333333 1" />
      </material>
    </visual>
    <collision>
      <origin
        xyz="0 0 0"
        rpy="0 0 0" />
      <geometry>
        <mesh
          filename="package://little_boy/meshes/humerus_support_R.STL" />
      </geometry>
    </collision>
  </link>
  <joint
    name="humerus_support_joint_R"
    type="continuous">
    <origin
      xyz="0 0.075 0.00999999999995707"
      rpy="1.5707963267949 -0.767782407939137 -1.5707963267949" />
    <parent
      link="shoulder_R" />
    <child
      link="humerus_support_R" />
    <axis
      xyz="0 0 1" />
  </joint>
  <link
    name="elbow_R_ins2">
    <inertial>
      <origin
        xyz="-0.00793696847258077 0.0282227462443324 0.00749999999999834"
        rpy="0 0 0" />
      <mass
        value="0.0427619510241515" />
      <inertia
        ixx="1.36758061050991E-05"
        ixy="1.99613319993036E-06"
        ixz="-2.79952895417653E-22"
        iyy="6.30957779977599E-06"
        iyz="4.03093188413162E-22"
        izz="1.83818107414694E-05" />
    </inertial>
    <visual>
      <origin
        xyz="0 0 0"
        rpy="0 0 0" />
      <geometry>
        <mesh
          filename="package://little_boy/meshes/elbow_R_ins2.STL" />
      </geometry>
      <material
        name="">
        <color
          rgba="0.250980392156863 0.250980392156863 0.250980392156863 1" />
      </material>
    </visual>
    <collision>
      <origin
        xyz="0 0 0"
        rpy="0 0 0" />
      <geometry>
        <mesh
          filename="package://little_boy/meshes/elbow_R_ins2.STL" />
      </geometry>
    </collision>
  </link>
  <joint
    name="elbow_hum_sup_joint_R"
    type="fixed">
    <origin
      xyz="-0.138582997772773 -0.0466224415932745 -0.00500000000000163"
      rpy="-3.14159265358979 0 -2.3339995251586" />
    <parent
      link="humerus_support_R" />
    <child
      link="elbow_R_ins2" />
    <axis
      xyz="0 0 0" />
  </joint>
  <link
    name="wheel_L1">
    <inertial>
      <origin
        xyz="0 0.0175709651675331 1.38777878078145E-17"
        rpy="0 0 0" />
      <mass
        value="0.0842634768580649" />
      <inertia
        ixx="2.64701588288593E-05"
        ixy="1.1144080180811E-21"
        ixz="4.0389678347355E-25"
        iyy="4.41212221144551E-05"
        iyz="-4.63456180623727E-22"
        izz="2.64701588288593E-05" />
    </inertial>
    <visual>
      <origin
        xyz="0 0 0"
        rpy="0 0 0" />
      <geometry>
        <mesh
          filename="package://little_boy/meshes/wheel_L1.STL" />
      </geometry>
      <material
        name="">
        <color
          rgba="0.792156862745098 0.819607843137255 0.933333333333333 1" />
      </material>
    </visual>
    <collision>
      <origin
        xyz="0 0 0"
        rpy="0 0 0" />
      <geometry>
        <mesh
          filename="package://little_boy/meshes/wheel_L1.STL" />
      </geometry>
    </collision>
  </link>
  <joint
    name="motor_L1"
    type="continuous">
    <origin
      xyz="-0.15 0.12 0.0162"
      rpy="1.5708 -1.5708 0" />
    <parent
      link="robot_body" />
    <child
      link="wheel_L1" />
    <axis
      xyz="0 1 0" />
  </joint>
  <link
    name="wheel_L2">
    <inertial>
      <origin
        xyz="0.0162 0.167570965167533 3.080514341075E-19"
        rpy="0 0 0" />
      <mass
        value="0.0842634768580649" />
      <inertia
        ixx="2.64701588288593E-05"
        ixy="3.44873361107661E-23"
        ixz="-1.58529487513212E-23"
        iyy="4.41212221144551E-05"
        iyz="-4.62803936290925E-22"
        izz="2.64701588288593E-05" />
    </inertial>
    <visual>
      <origin
        xyz="0 0 0"
        rpy="0 0 0" />
      <geometry>
        <mesh
          filename="package://little_boy/meshes/wheel_L2.STL" />
      </geometry>
      <material
        name="">
        <color
          rgba="0.792156862745098 0.819607843137255 0.933333333333333 1" />
      </material>
    </visual>
    <collision>
      <origin
        xyz="0 0 0"
        rpy="0 0 0" />
      <geometry>
        <mesh
          filename="package://little_boy/meshes/wheel_L2.STL" />
      </geometry>
    </collision>
  </link>
  <joint
    name="motor_L2"
    type="continuous">
    <origin
      xyz="0 0 0"
      rpy="1.5708 -1.5708 0" />
    <parent
      link="robot_body" />
    <child
      link="wheel_L2" />
    <axis
      xyz="0 1 0" />
  </joint>
  <link
    name="wheel_L3">
    <inertial>
      <origin
        xyz="0 0.0175709651675331 -4.16333634234434E-17"
        rpy="0 0 0" />
      <mass
        value="0.0842634768580649" />
      <inertia
        ixx="2.64701588288593E-05"
        ixy="3.45937831080503E-23"
        ixz="-1.27227486794045E-23"
        iyy="4.41212221144551E-05"
        iyz="-6.7282052659081E-22"
        izz="2.64701588288593E-05" />
    </inertial>
    <visual>
      <origin
        xyz="0 0 0"
        rpy="0 0 0" />
      <geometry>
        <mesh
          filename="package://little_boy/meshes/wheel_L3.STL" />
      </geometry>
      <material
        name="">
        <color
          rgba="0.792156862745098 0.819607843137255 0.933333333333333 1" />
      </material>
    </visual>
    <collision>
      <origin
        xyz="0 0 0"
        rpy="0 0 0" />
      <geometry>
        <mesh
          filename="package://little_boy/meshes/wheel_L3.STL" />
      </geometry>
    </collision>
  </link>
  <joint
    name="motor_L3"
    type="continuous">
    <origin
      xyz="-0.15 -0.12 0.0162"
      rpy="1.5708 -1.5708 0" />
    <parent
      link="robot_body" />
    <child
      link="wheel_L3" />
    <axis
      xyz="0 1 0" />
  </joint>
  <link
    name="wheel_R1">
    <inertial>
      <origin
        xyz="0 0.0175709651675331 0"
        rpy="0 0 0" />
      <mass
        value="0.0842634768580649" />
      <inertia
        ixx="2.64701588288593E-05"
        ixy="-3.53986897381247E-23"
        ixz="-1.05518034682368E-23"
        iyy="4.41212221144551E-05"
        iyz="-5.05208663024014E-21"
        izz="2.64701588288593E-05" />
    </inertial>
    <visual>
      <origin
        xyz="0 0 0"
        rpy="0 0 0" />
      <geometry>
        <mesh
          filename="package://little_boy/meshes/wheel_R1.STL" />
      </geometry>
      <material
        name="">
        <color
          rgba="0.792156862745098 0.819607843137255 0.933333333333333 1" />
      </material>
    </visual>
    <collision>
      <origin
        xyz="0 0 0"
        rpy="0 0 0" />
      <geometry>
        <mesh
          filename="package://little_boy/meshes/wheel_R1.STL" />
      </geometry>
    </collision>
  </link>
  <joint
    name="motor_R1"
    type="continuous">
    <origin
      xyz="0.15 0.12 0.016"
      rpy="1.5708 1.5708 0" />
    <parent
      link="robot_body" />
    <child
      link="wheel_R1" />
    <axis
      xyz="0 1 0" />
  </joint>
  <link
    name="wheel_R2">
    <inertial>
      <origin
        xyz="-3.46944695195361E-18 0.0175709651675331 1.17048786063322E-17"
        rpy="0 0 0" />
      <mass
        value="0.0842634768580649" />
      <inertia
        ixx="2.64701588288593E-05"
        ixy="-1.11442463103609E-21"
        ixz="1.86802262356266E-24"
        iyy="4.41212221144551E-05"
        iyz="-5.8414807930282E-21"
        izz="2.64701588288593E-05" />
    </inertial>
    <visual>
      <origin
        xyz="0 0 0"
        rpy="0 0 0" />
      <geometry>
        <mesh
          filename="package://little_boy/meshes/wheel_R2.STL" />
      </geometry>
      <material
        name="">
        <color
          rgba="0.792156862745098 0.819607843137255 0.933333333333333 1" />
      </material>
    </visual>
    <collision>
      <origin
        xyz="0 0 0"
        rpy="0 0 0" />
      <geometry>
        <mesh
          filename="package://little_boy/meshes/wheel_R2.STL" />
      </geometry>
    </collision>
  </link>
  <joint
    name="motor_R2"
    type="continuous">
    <origin
      xyz="0.15 0 0.016"
      rpy="1.5708 1.5708 0" />
    <parent
      link="robot_body" />
    <child
      link="wheel_R2" />
    <axis
      xyz="0 1 0" />
  </joint>
  <link
    name="wheel_R3">
    <inertial>
      <origin
        xyz="-3.46944695195361E-18 0.0175709651675331 -1.38777878078145E-17"
        rpy="0 0 0" />
      <mass
        value="0.0842634768580649" />
      <inertia
        ixx="2.64701588288593E-05"
        ixy="3.56436248585463E-25"
        ixz="1.40498020486035E-21"
        iyy="4.41212221144551E-05"
        iyz="-4.09877236402118E-21"
        izz="2.64701588288593E-05" />
    </inertial>
    <visual>
      <origin
        xyz="0 0 0"
        rpy="0 0 0" />
      <geometry>
        <mesh
          filename="package://little_boy/meshes/wheel_R3.STL" />
      </geometry>
      <material
        name="">
        <color
          rgba="0.792156862745098 0.819607843137255 0.933333333333333 1" />
      </material>
    </visual>
    <collision>
      <origin
        xyz="0 0 0"
        rpy="0 0 0" />
      <geometry>
        <mesh
          filename="package://little_boy/meshes/wheel_R3.STL" />
      </geometry>
    </collision>
  </link>
  <joint
    name="motor_R3"
    type="continuous">
    <origin
      xyz="0.15 -0.12 0.016"
      rpy="1.5708 1.5708 0" />
    <parent
      link="robot_body" />
    <child
      link="wheel_R3" />
    <axis
      xyz="0 1 0" />
  </joint>
</robot>
